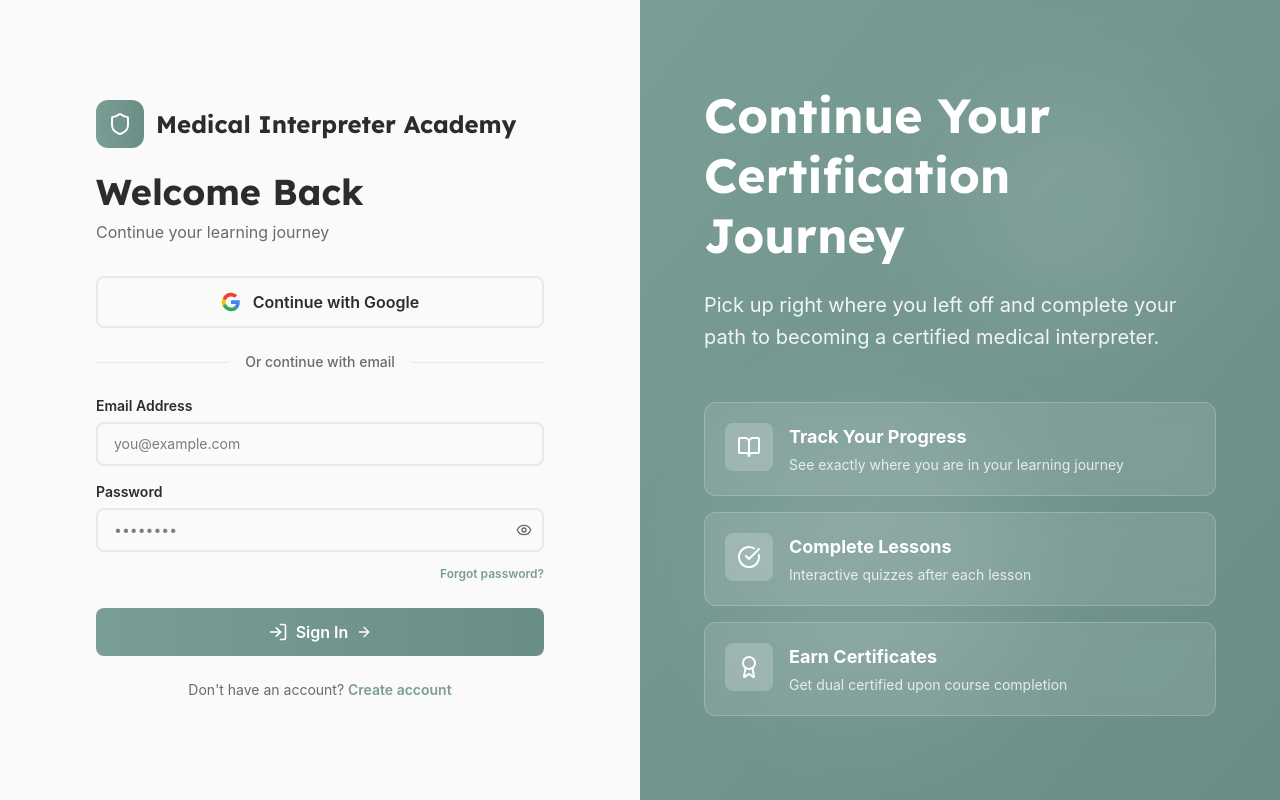
Test: Login Page › Login Errors › should show generic error when no message provided
This screenshot has width=1280, height=800.
In the field labelled "Email Address": (320, 444) [96,422,544,466], type "test@example.com"
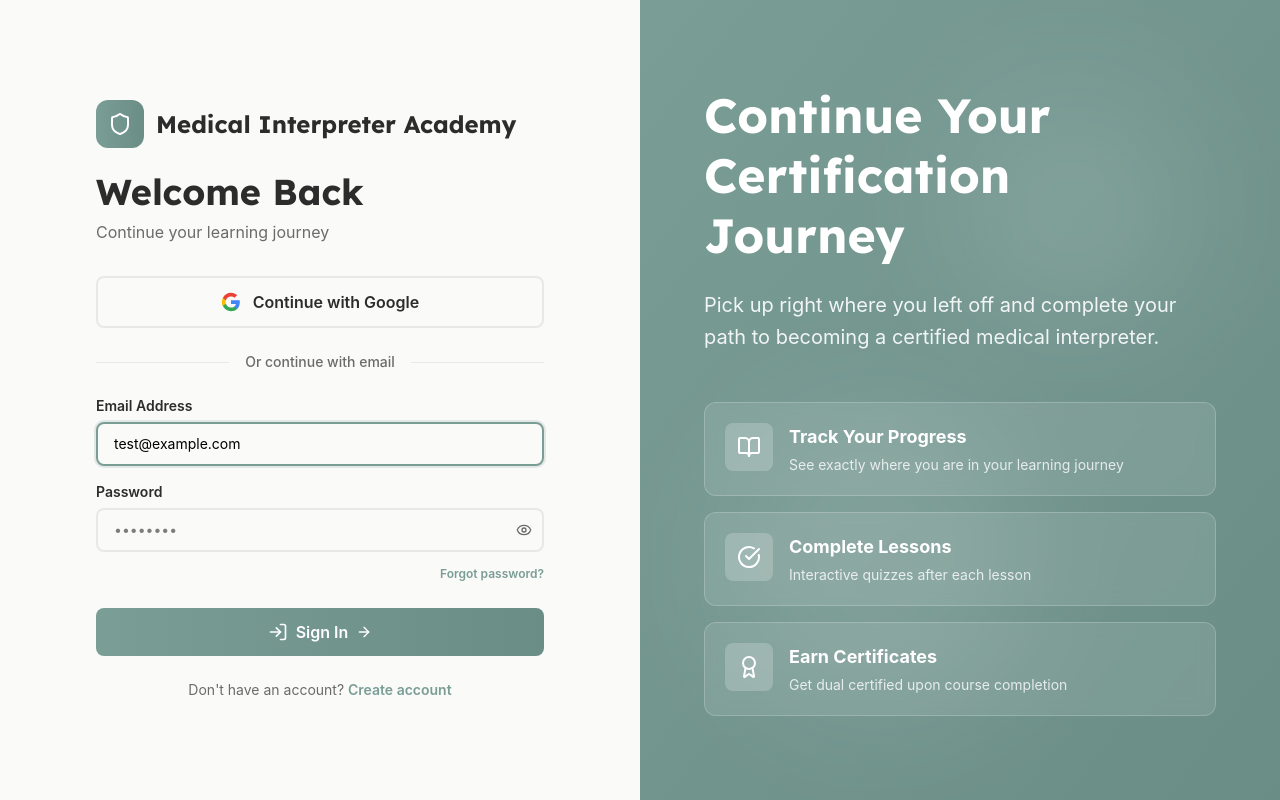
In the password field labelled "Password": (320, 530) [96,508,544,552], type "password123"
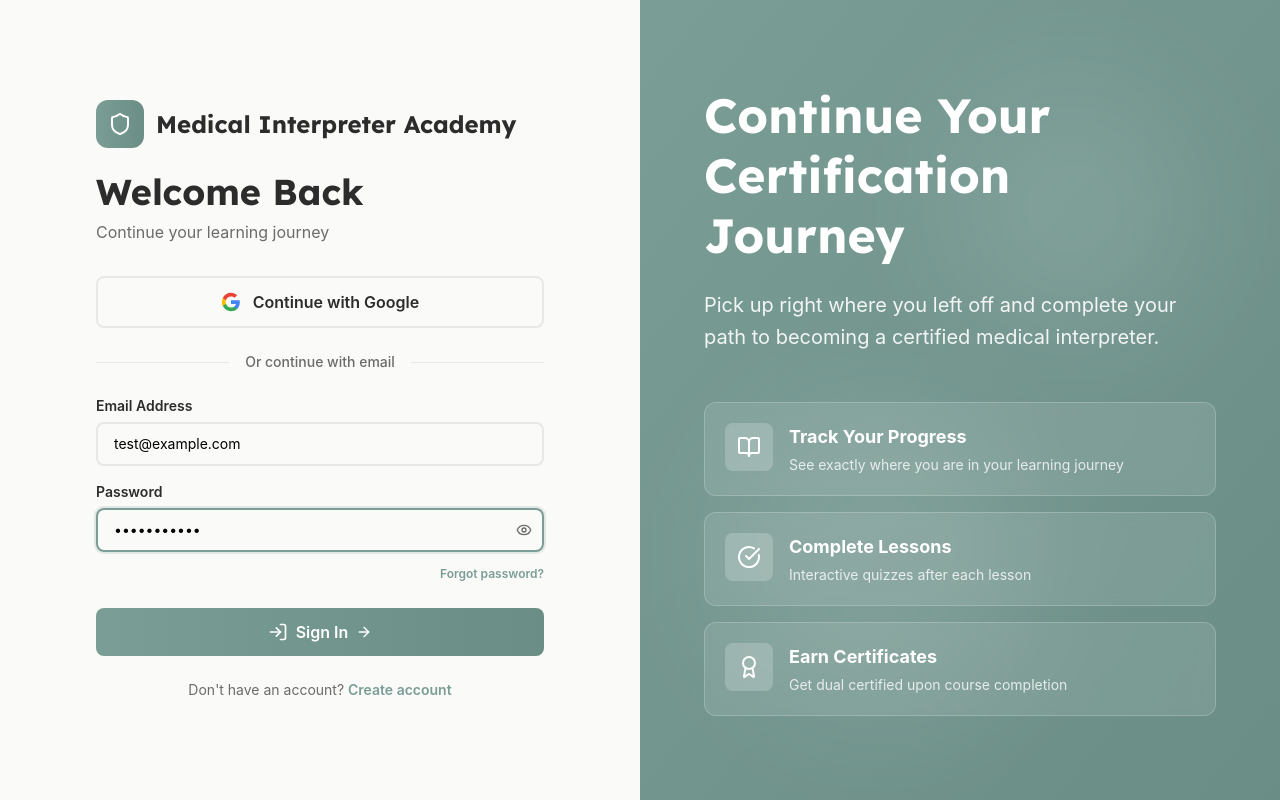
Click the button "Sign In": (320, 632) [96,608,544,656]
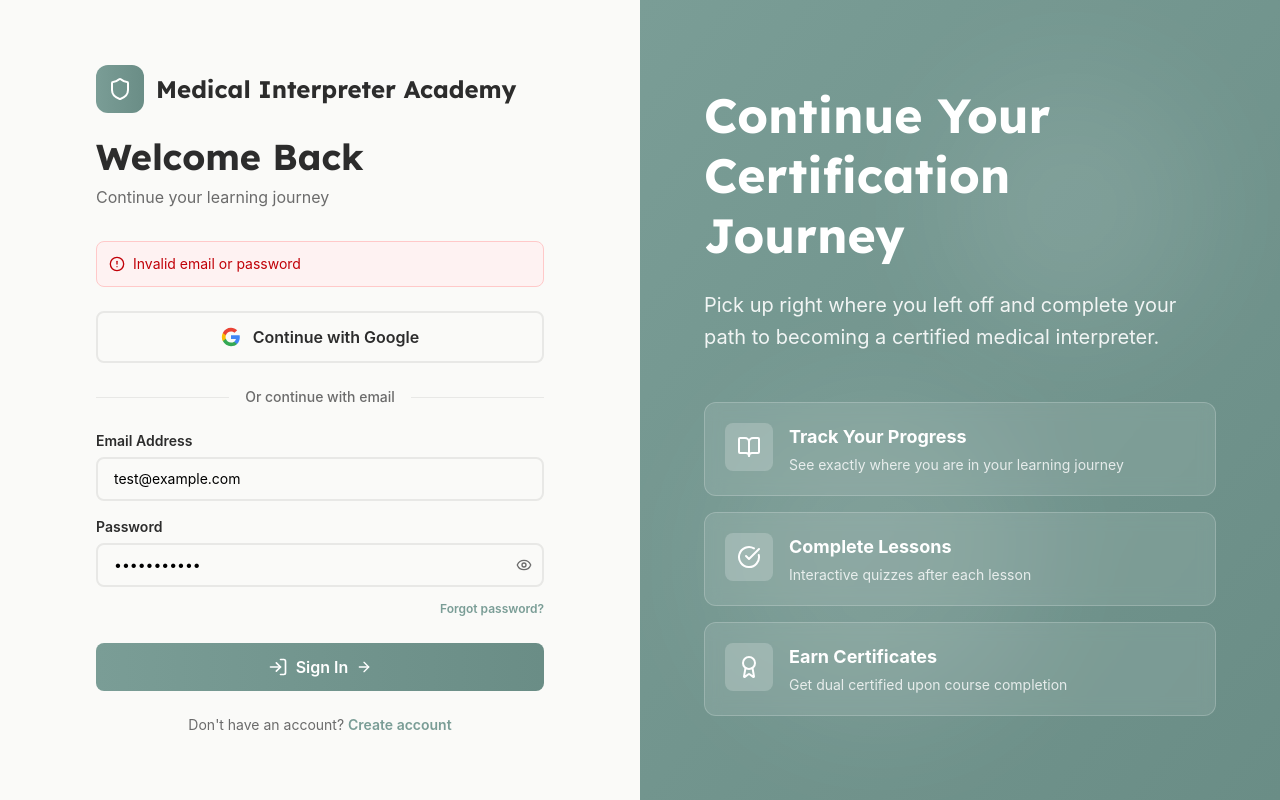
Expected: the text "Invalid email or password" is shown, [133,254,301,274]
